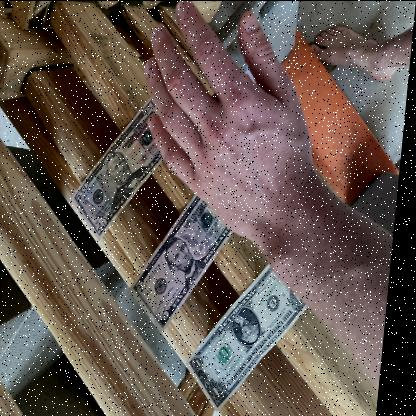fifty-front: (76, 93, 185, 238)
five-front: (134, 190, 239, 333)
one-back: (191, 260, 316, 413)
